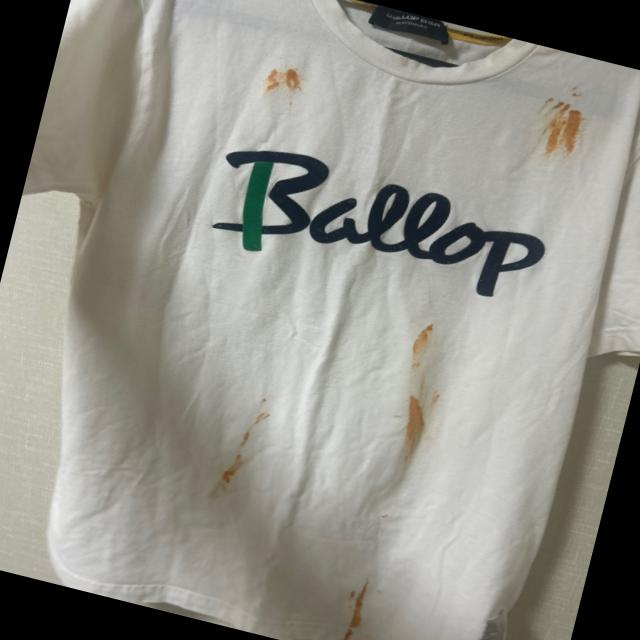stain: (216, 387, 284, 500), (528, 94, 602, 165), (389, 376, 451, 459), (254, 52, 318, 110), (336, 572, 383, 640), (407, 317, 444, 375), (562, 86, 591, 110)
